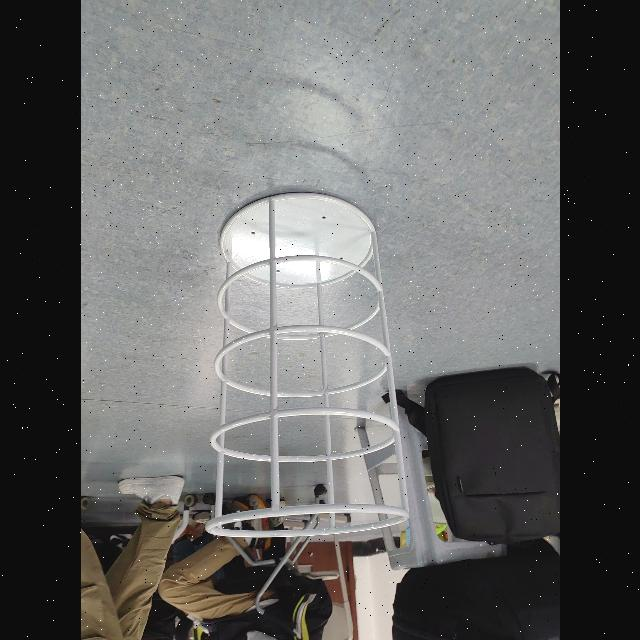S: (200, 188, 414, 544)
